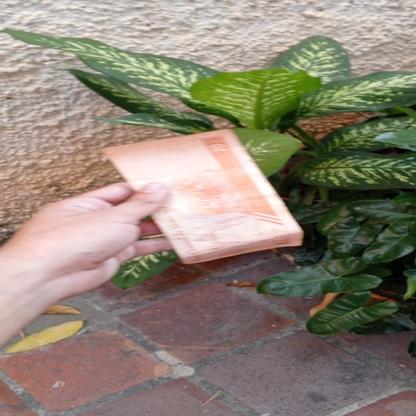twenty-back-vef: (101, 127, 302, 265)
